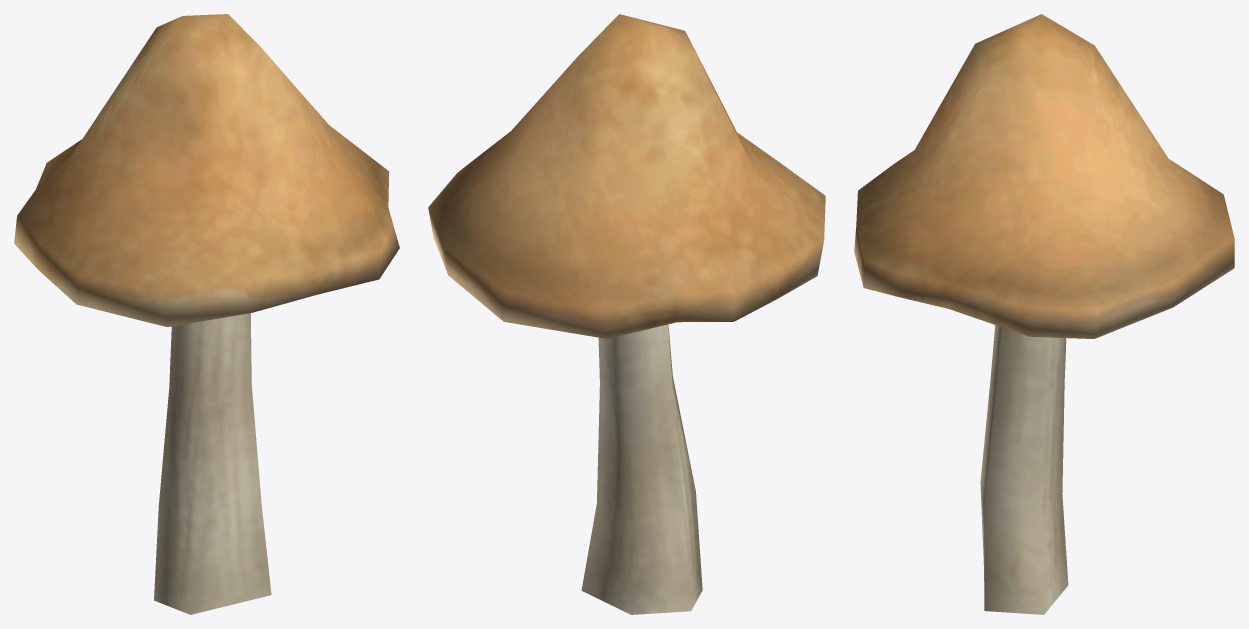
Rendered from mushroom_02.glb.
3 views of the same model, side by side, from view 1: azimuth 30°, elevation 25°; view 2: azimuth 150°, elevation 25°; view 3: azimuth 270°, elevation 25° (orthographic). The views are drawn at different scales.
Parts seen in each view (by area): view 1: mushroom_02; view 2: mushroom_02; view 3: mushroom_02.
Boxes of the visible parts, <box> form: mushroom_02: <box>14,14,399,614</box>; mushroom_02: <box>428,14,825,614</box>; mushroom_02: <box>854,14,1234,614</box>.
Size of the model in its own units: 0.376 by 0.6134 by 0.3726.
Materials: 1 (1 with a texture image).
